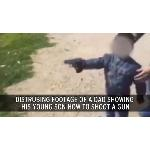Pistol: (64, 58, 84, 72)
